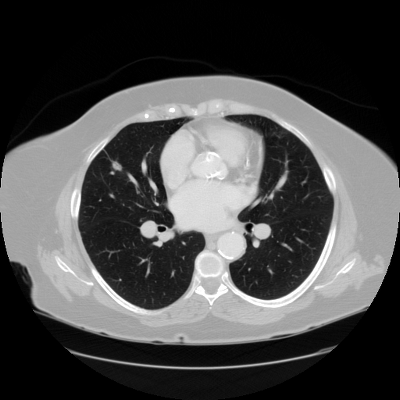nodule: (111, 161, 121, 171)
